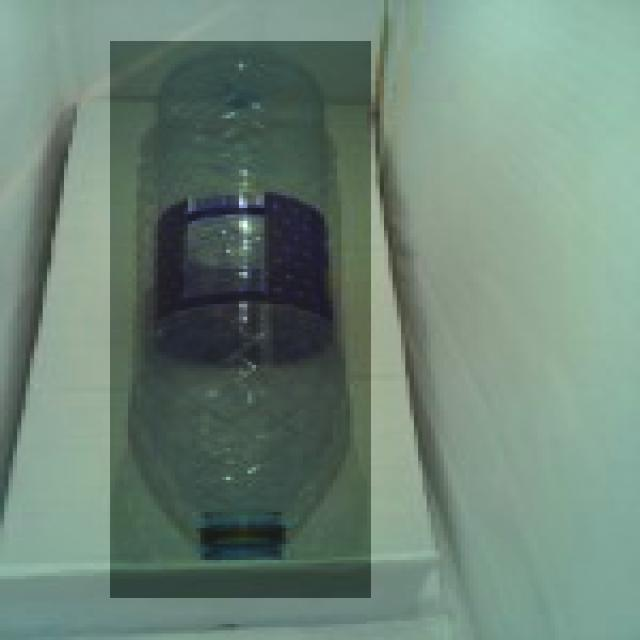bottle: (110, 41, 371, 598)
